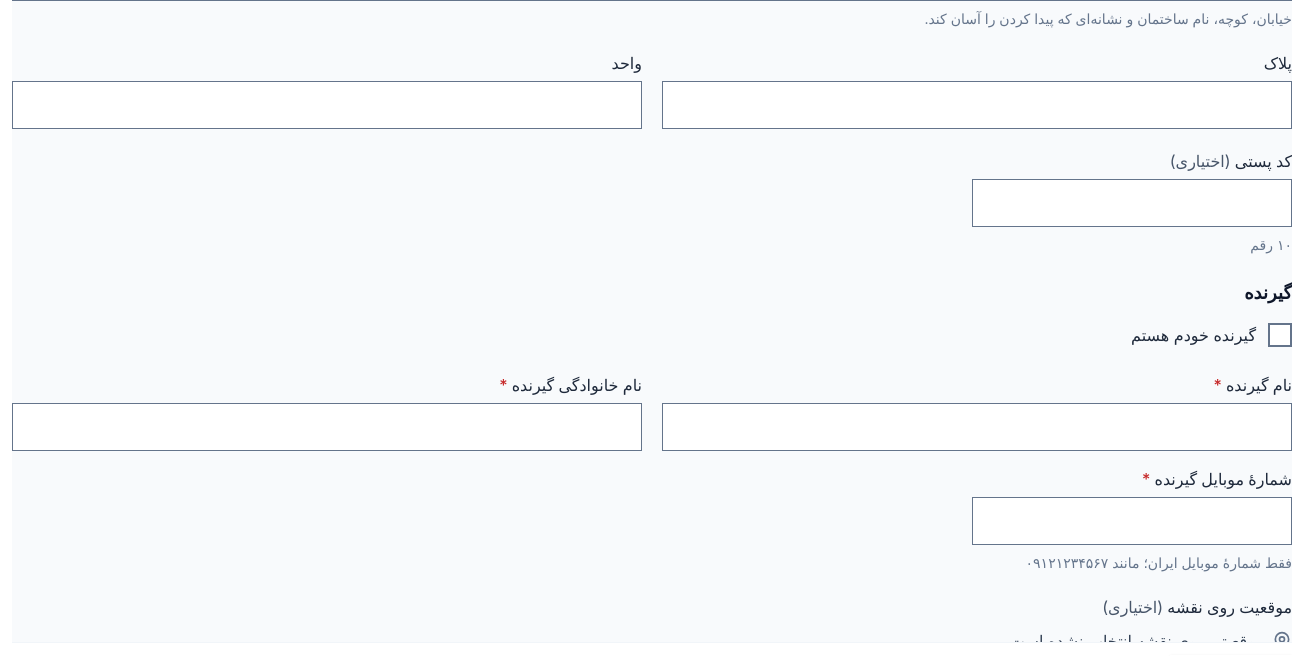
Scenario: AddressForm: a new address › a profile without a phone: another typed mobile is not «myself»
The width and height of the screenshot is (1304, 656).
(page scrolled)
Click the checkbox named "گیرنده خودم هستم": click(1280, 335) [1268,323,1292,347]
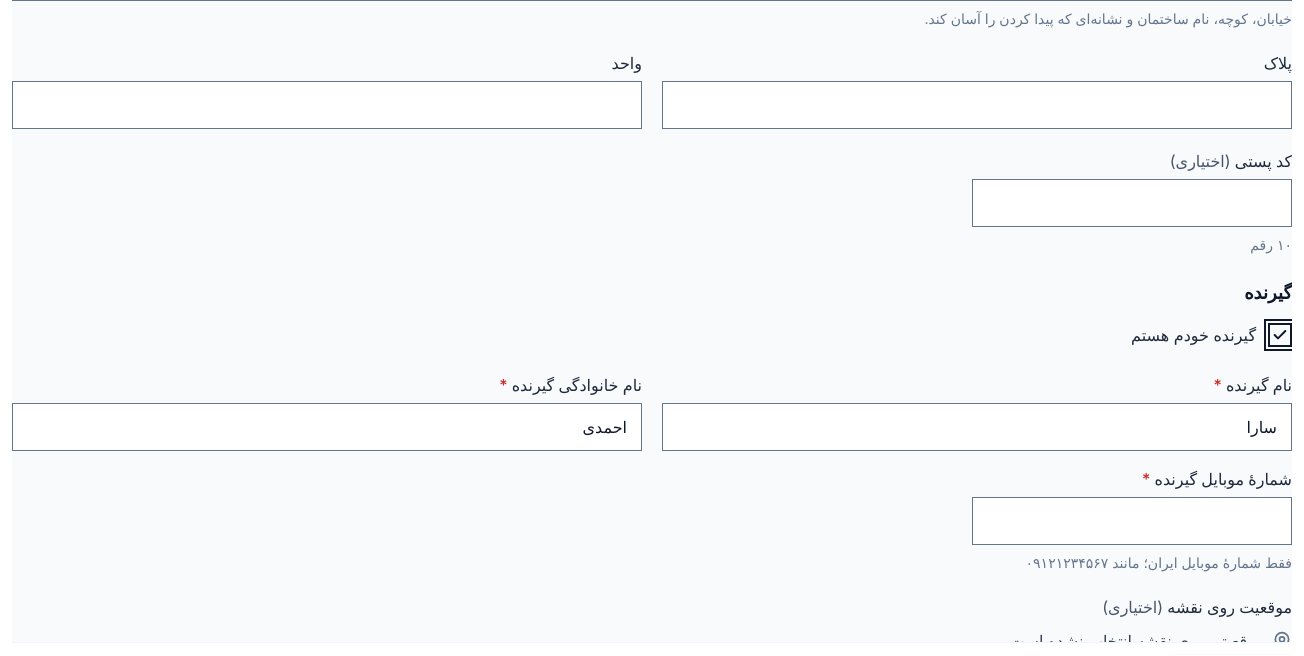
Now the checkbox named "گیرنده خودم هستم" is checked, box [1268,323,1292,347]
Now the field labelled "نام گیرنده *" holds "سارا", box [663,404,1291,450]
In the field labelled "شمارهٔ موبایل گیرنده *": (1132, 521) [973,498,1291,544], type "09351112233"
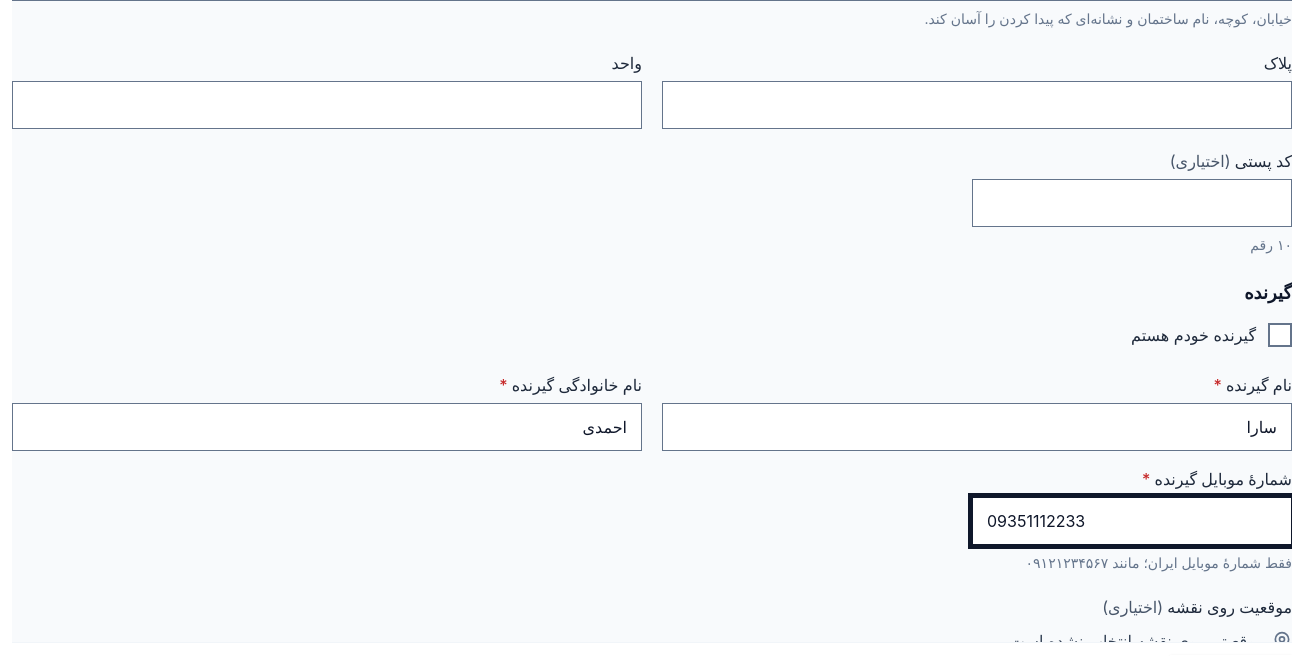
Now the checkbox named "گیرنده خودم هستم" is not checked, box [1268,323,1292,347]
